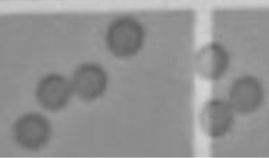cell: (103, 14, 147, 60), (188, 38, 231, 84), (67, 58, 109, 105), (224, 71, 266, 118), (195, 96, 237, 141), (10, 110, 53, 153), (32, 70, 71, 113)
